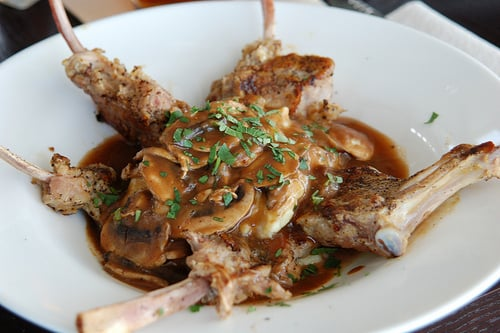soup: (17, 28, 496, 323)
